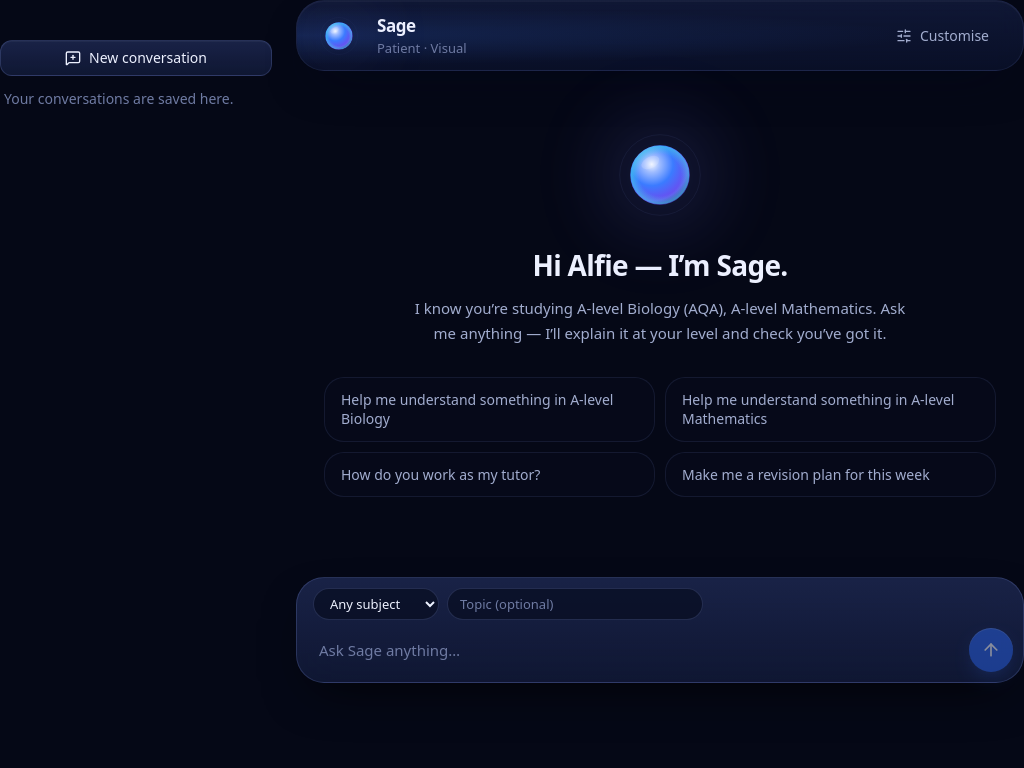
Test: Tutor workspace › handles a dropped connection without losing the message
Type "Explain mitosis" into the text box named "Message Sage" at (634, 650), box [307,628,961,672]
Then press Enter
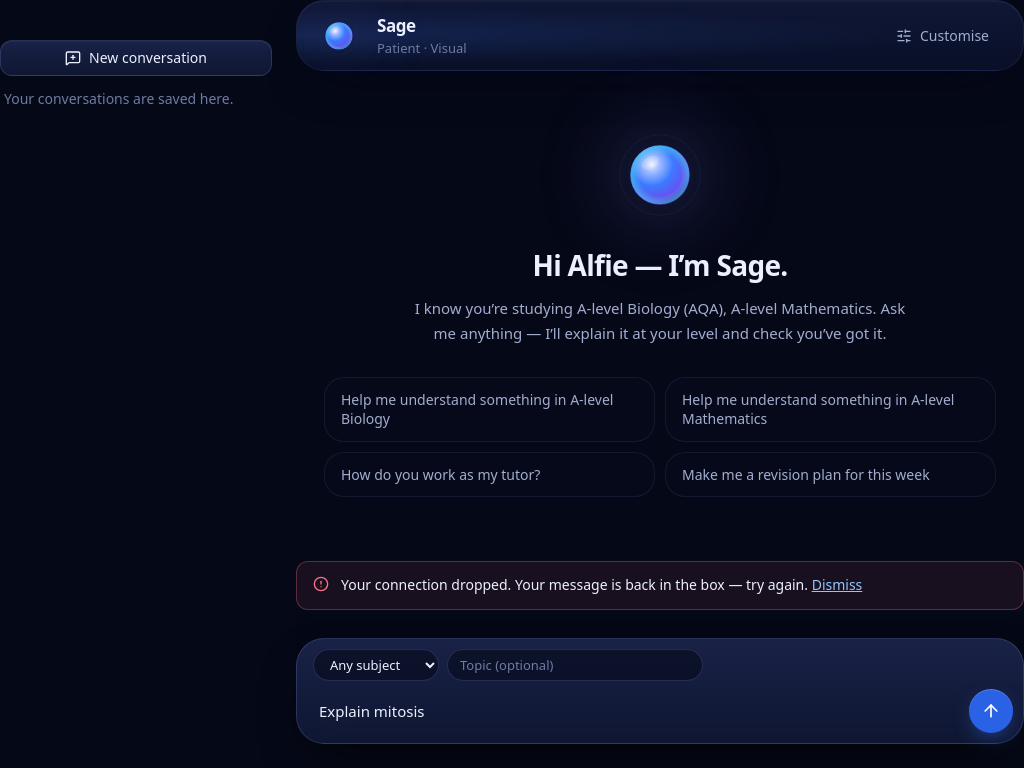
Now the message shows "connection dropped", box [341,575,808,594]
